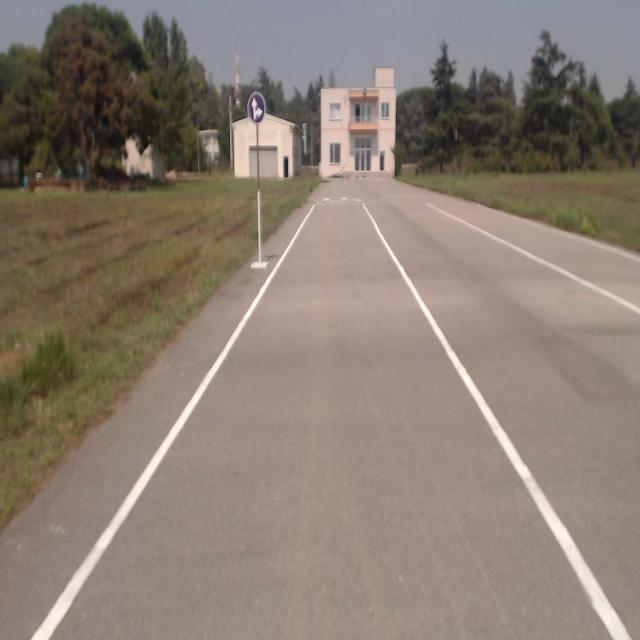ilerisag: (247, 90, 267, 124)
